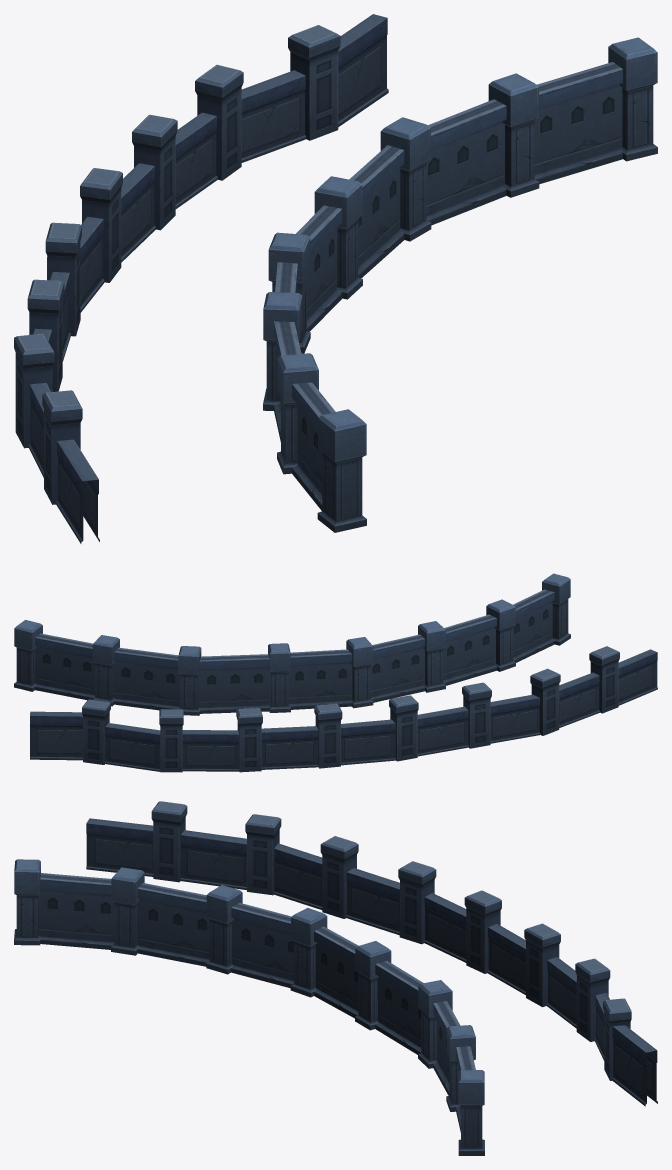
File: chengqiang_group30.fbx
The picture shows the model from 3 angles, top to bottom: view 1: azimuth 30°, elevation 25°; view 2: azimuth 150°, elevation 25°; view 3: azimuth 270°, elevation 25°; orthographic projection. The views are drawn at different scales.
Parts seen in each view (by area): view 1: chengqiang_group30; view 2: chengqiang_group30; view 3: chengqiang_group30.
Boxes of the visible parts, x1,y1,x2,y2 form: chengqiang_group30: (14,14,657,543); chengqiang_group30: (14,573,657,772); chengqiang_group30: (14,801,657,1155).
Size of the model in its own units: 5772 by 700 by 5366.
1 material, 1 textured.
